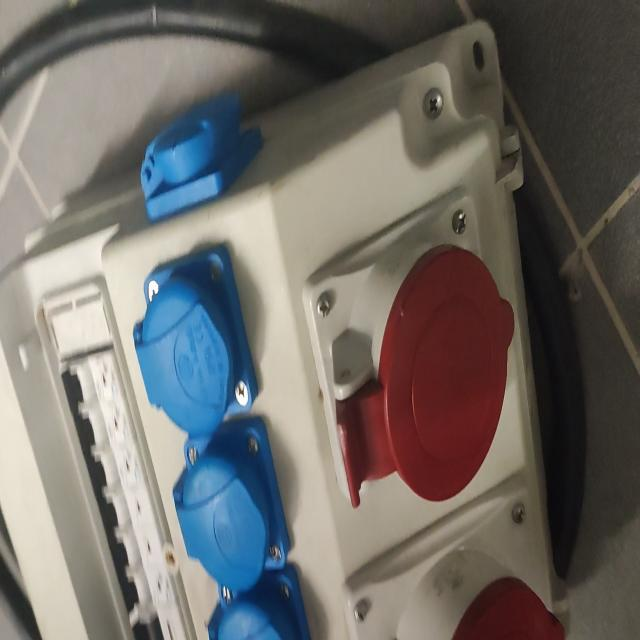400v socket: (301, 184, 516, 503), (341, 473, 567, 640)
house plug covered: (133, 244, 260, 433), (173, 419, 291, 591), (141, 92, 265, 223), (208, 566, 311, 640)
